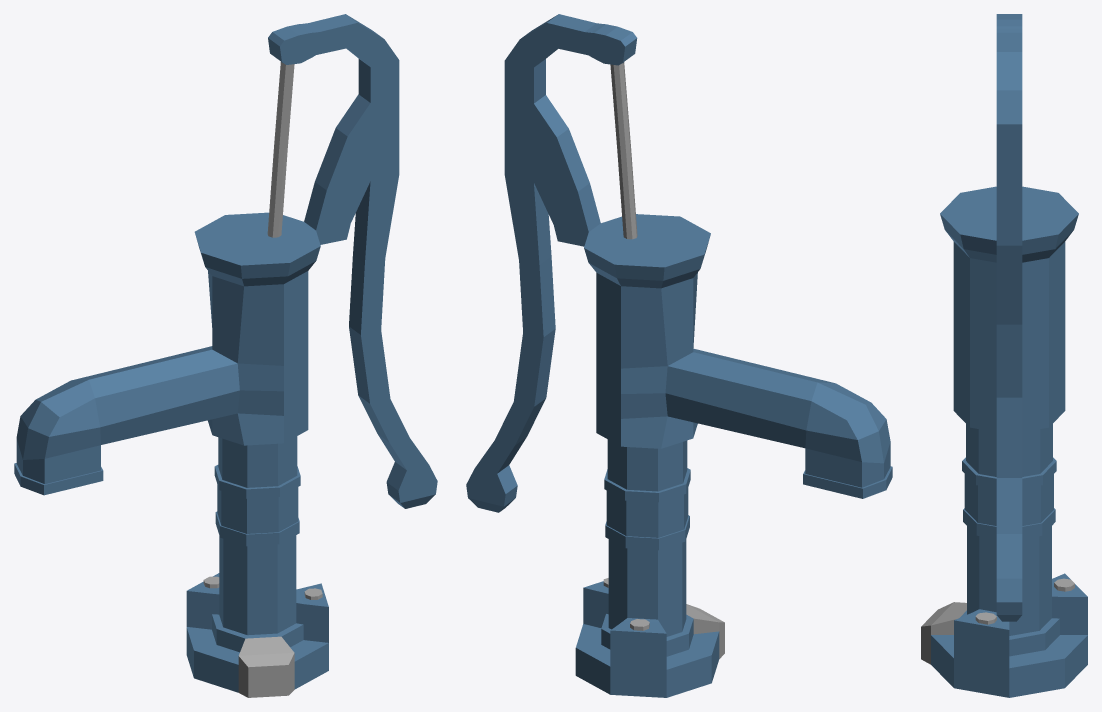
The model's file is Water_pump.glb.
The picture shows the model from 3 angles, left to right: view 1: azimuth 30°, elevation 25°; view 2: azimuth 150°, elevation 25°; view 3: azimuth 270°, elevation 25°; orthographic projection. The views are drawn at different scales.
Parts seen in each view (by area): view 1: Цилиндр; view 2: Цилиндр; view 3: Цилиндр.
Boxes of the visible parts, x1,y1,x2,y2 form: Цилиндр: (14, 14, 437, 697); Цилиндр: (466, 14, 892, 697); Цилиндр: (921, 14, 1087, 697).
Bounding box in the file's own units: 1.57 × 2.27 × 0.5174.
